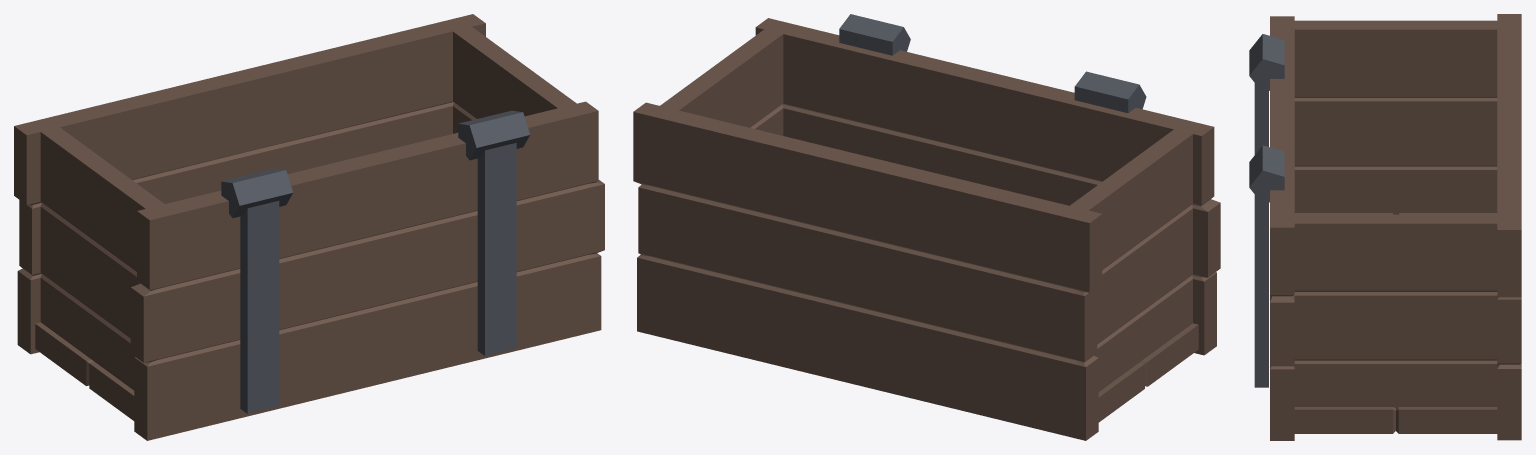
Rendered from Chest.fbx.
3 renders of one model, left to right at view 1: azimuth 30°, elevation 25°; view 2: azimuth 150°, elevation 25°; view 3: azimuth 270°, elevation 25°, orthographic. The views are drawn at different scales.
Parts seen in each view (by area): view 1: Chest; view 2: Chest; view 3: Chest.
Boxes of the visible parts, x1=… form: Chest: x1=14, y1=14, x2=604, y2=440; Chest: x1=633, y1=14, x2=1220, y2=440; Chest: x1=1249, y1=14, x2=1521, y2=440.
Bounding box in the file's own units: 0.8701 × 0.4617 × 0.4336.
